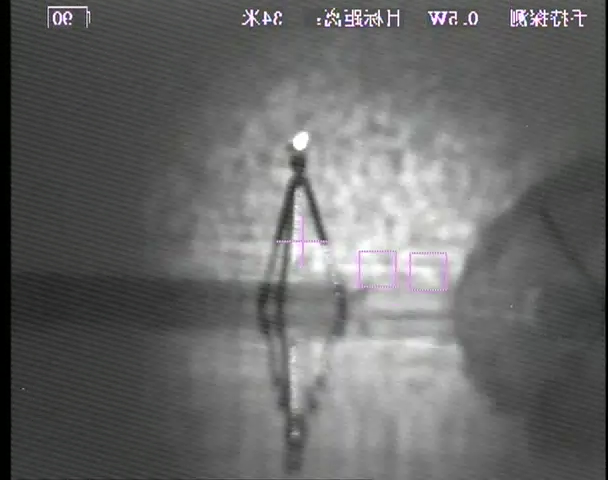my: (290, 129, 311, 151)
